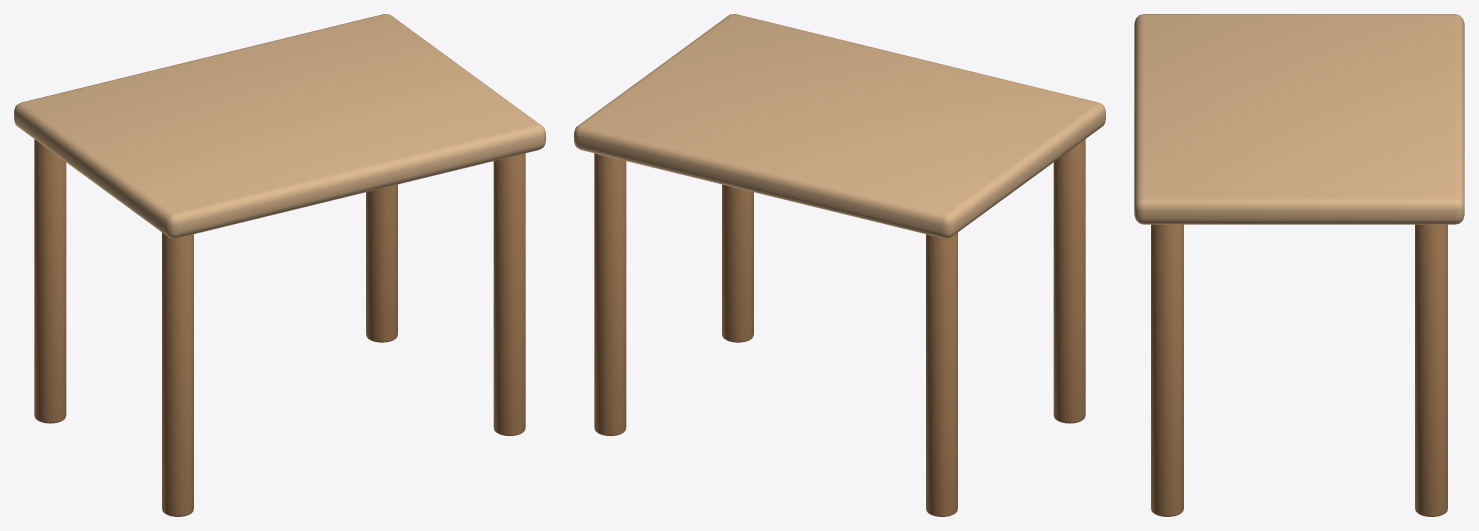
The model's file is table.glb.
The picture shows the model from 3 angles, left to right: view 1: azimuth 30°, elevation 25°; view 2: azimuth 150°, elevation 25°; view 3: azimuth 270°, elevation 25°; orthographic projection. The views are drawn at different scales.
Visible parts, largest first — view 1: table; view 2: table; view 3: table.
Part boxes in pixels (box(x1,y1,x2,y2)): table: box(14, 14, 545, 516); table: box(574, 14, 1105, 516); table: box(1134, 14, 1464, 516).
Bounding box in the file's own units: 0.96 × 0.75 × 0.7.
